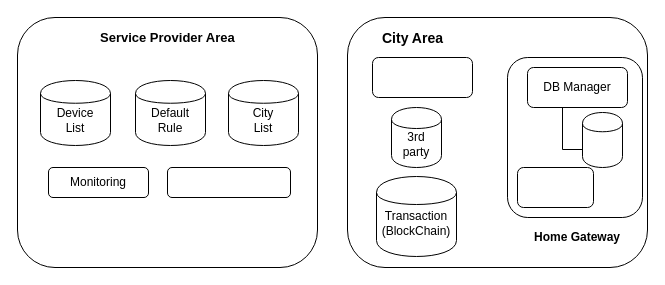
The diagram is 665 pixels wide and 285 high, and some of its shapes have lost their labels. Here are the shapes that lost their labels. From the top down, the box of each, then its label:
(372, 56, 472, 98): Distribution Manager
(582, 112, 622, 168): Local DB
(166, 166, 290, 198): 3rd-party manager
(516, 166, 594, 208): BlockChain Node
